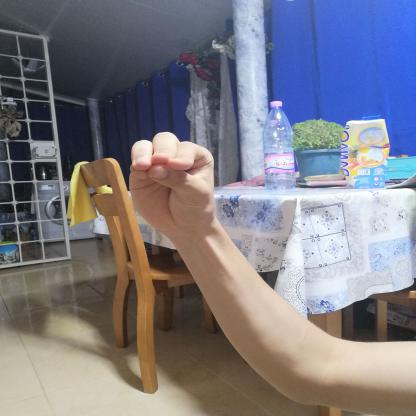HA: (110, 119, 230, 245)
